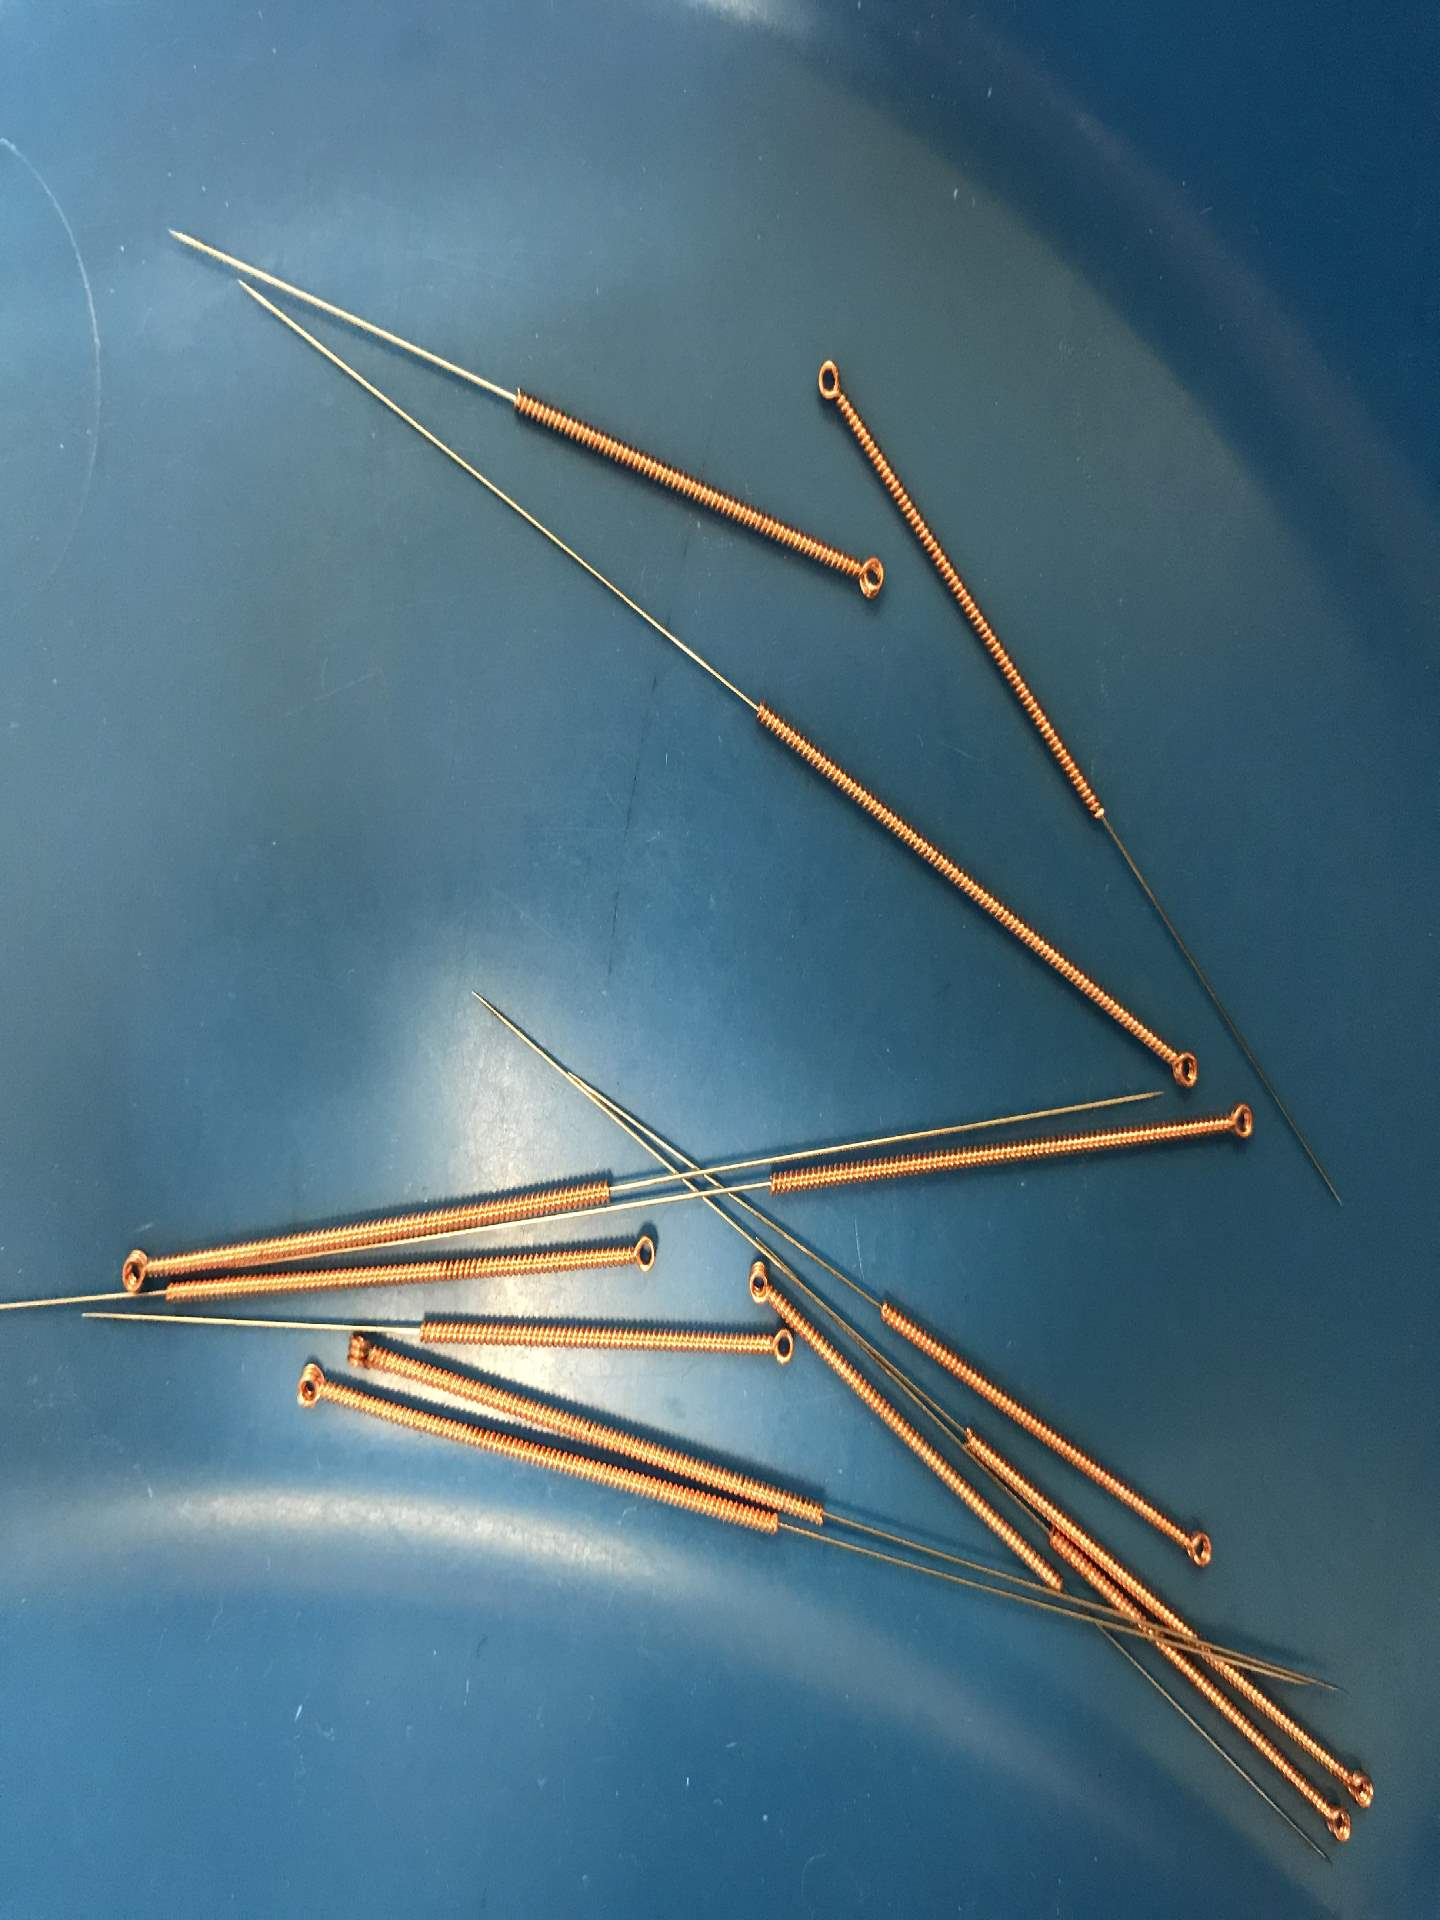needle: (1156, 1510, 1227, 1581), (836, 538, 895, 615), (1204, 1092, 1272, 1152), (800, 345, 855, 419), (1150, 1033, 1210, 1099), (281, 1346, 334, 1417), (106, 1237, 157, 1309), (340, 1315, 395, 1383), (740, 1246, 784, 1312), (1334, 1751, 1383, 1810), (620, 1217, 664, 1281), (1311, 1798, 1355, 1849), (758, 1323, 802, 1373)
